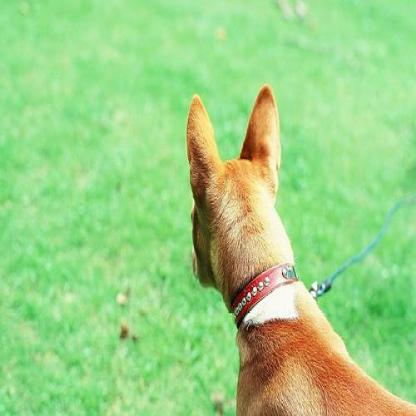basenji: (185, 80, 414, 414)
